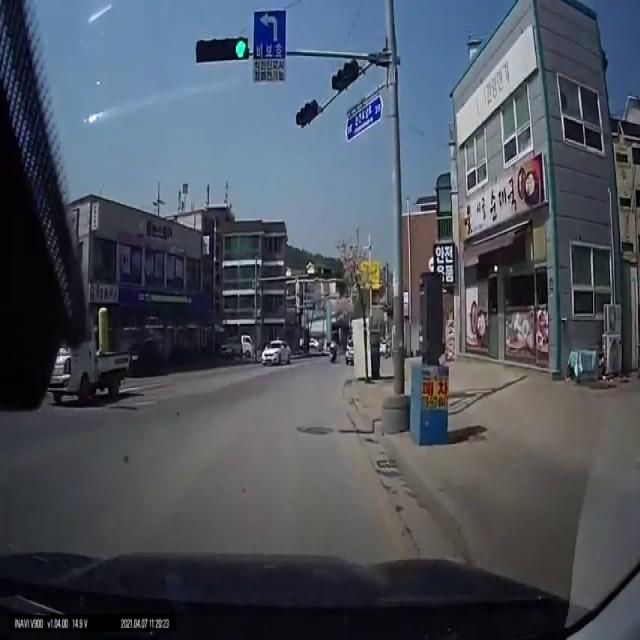Pothole: (302, 422, 337, 438)
